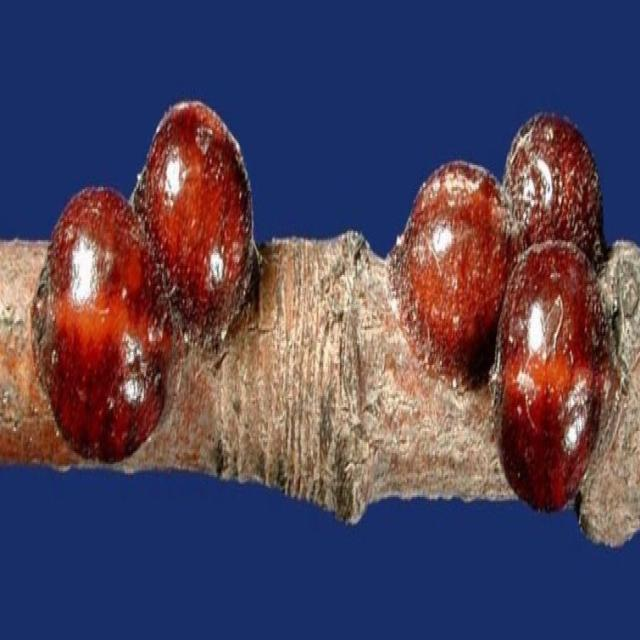Anthracnose: (395, 114, 616, 508), (30, 101, 258, 460)
